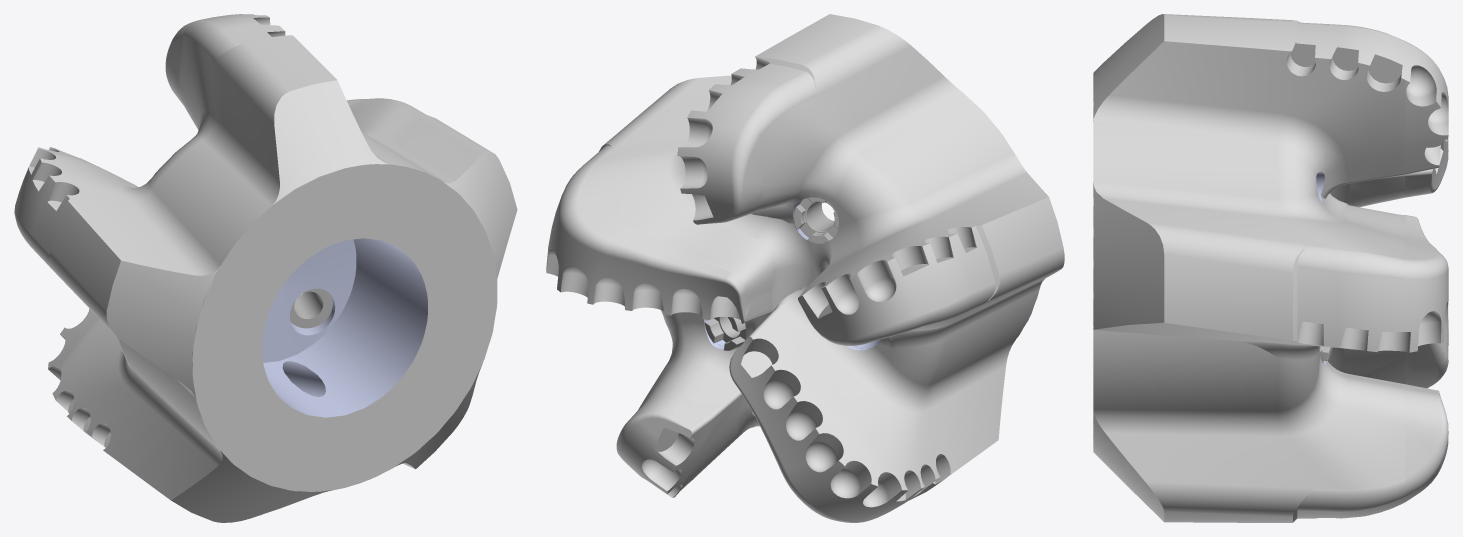
The model's file is Sample.FBX.
3 renders of one model, left to right at view 1: azimuth 30°, elevation 25°; view 2: azimuth 150°, elevation 25°; view 3: azimuth 270°, elevation 25°, orthographic. The views are drawn at different scales.
Visible parts, largest first — view 1: ×°ÅäÌå2-1-solid3, ×°ÅäÌå2-1-solid1, ×°ÅäÌå2-1-solid2, Åç×ì-1-solid1; view 2: ×°ÅäÌå2-1-solid3, ×°ÅäÌå2-1-solid1, ×°ÅäÌå2-1-solid2, Åç×ì-2-solid1, Åç×ì-1-solid1; view 3: ×°ÅäÌå2-1-solid3, ×°ÅäÌå2-1-solid2, ×°ÅäÌå2-1-solid1.
Part boxes in pixels (box(x1,y1,x2,y2)): ×°ÅäÌå2-1-solid3: box(14, 14, 496, 491); ×°ÅäÌå2-1-solid1: box(48, 133, 497, 522); ×°ÅäÌå2-1-solid2: box(119, 98, 517, 491); Åç×ì-1-solid1: box(290, 288, 332, 328); ×°ÅäÌå2-1-solid3: box(616, 14, 1064, 497); ×°ÅäÌå2-1-solid1: box(677, 93, 1037, 522); ×°ÅäÌå2-1-solid2: box(546, 75, 1038, 379); Åç×ì-2-solid1: box(793, 197, 838, 243); Åç×ì-1-solid1: box(704, 316, 745, 350); ×°ÅäÌå2-1-solid3: box(1093, 14, 1448, 522); ×°ÅäÌå2-1-solid2: box(1093, 102, 1448, 438); ×°ÅäÌå2-1-solid1: box(1093, 105, 1448, 451).
Size of the model in its own units: 23.99 by 23.12 by 16.56.
